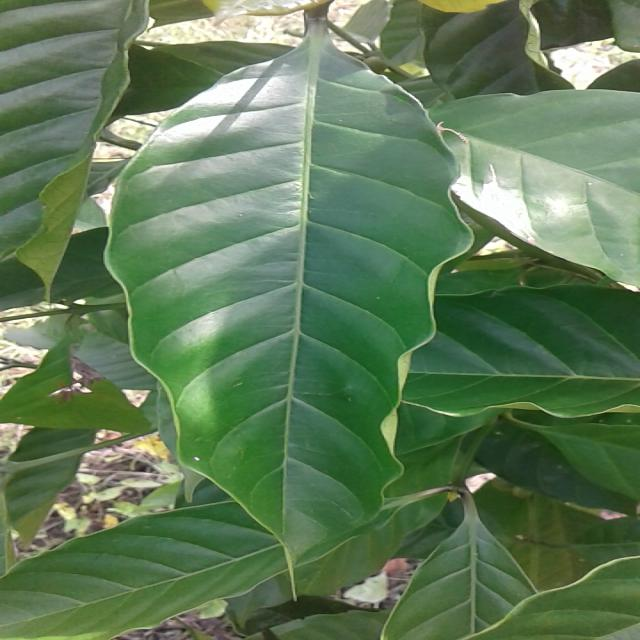Sanas: (103, 18, 476, 585)
